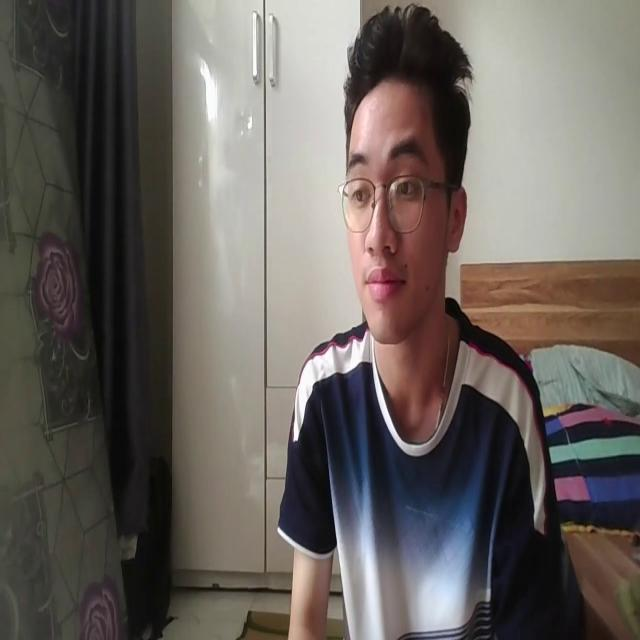student: (278, 2, 574, 640)
